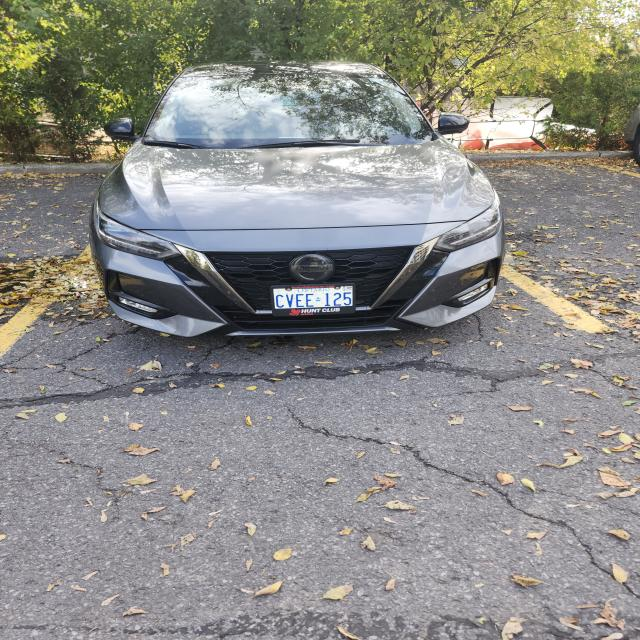plaque: (271, 285, 355, 317)
